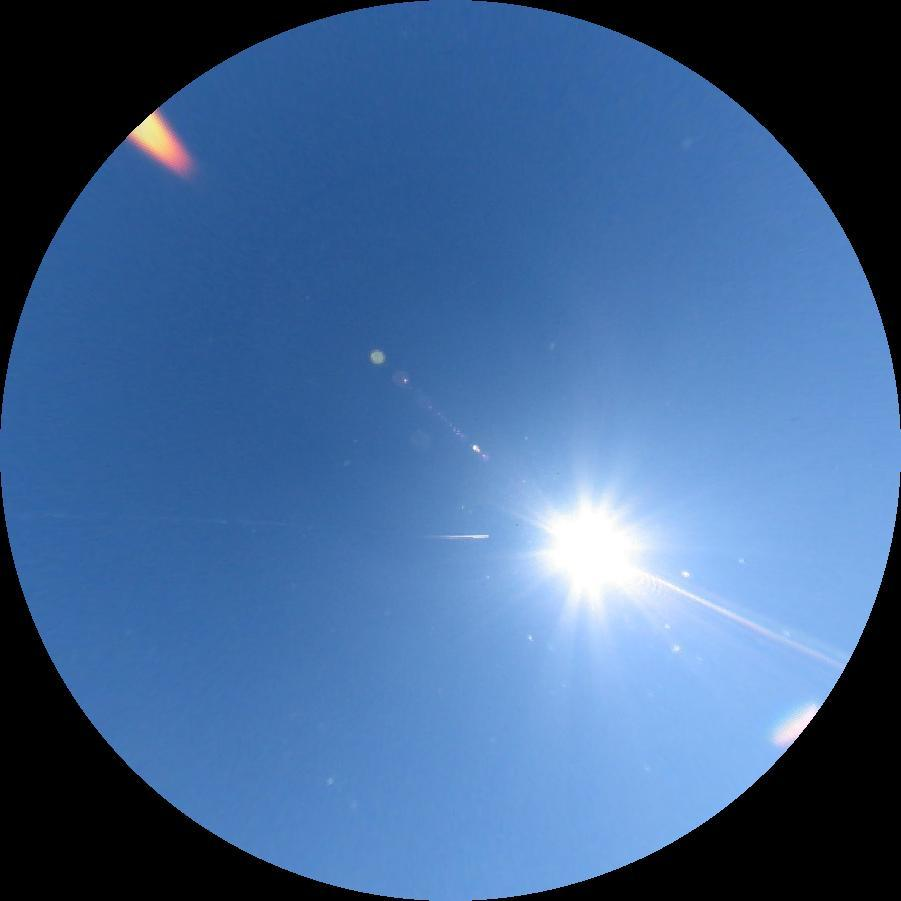contrail young: (421, 533, 489, 540)
parasite: (634, 566, 846, 671), (44, 511, 296, 526)
sun: (526, 482, 656, 615)
